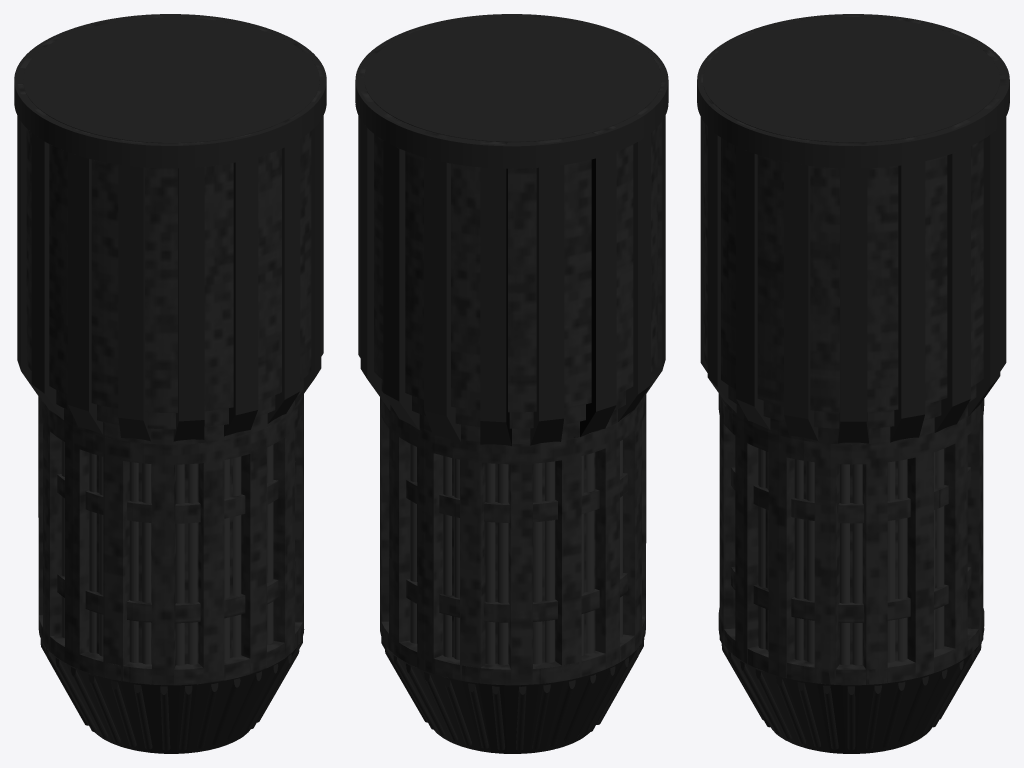
The model's file is thruster.glb.
The picture shows the model from 3 angles, left to right: view 1: azimuth 30°, elevation 25°; view 2: azimuth 150°, elevation 25°; view 3: azimuth 270°, elevation 25°; orthographic projection.
Parts seen in each view (by area): view 1: thruster; view 2: thruster; view 3: thruster.
Part boxes in pixels (left/top/right/bottom): thruster: left=14, top=14, right=326, bottom=753; thruster: left=355, top=14, right=668, bottom=753; thruster: left=697, top=14, right=1009, bottom=753.
Size of the model in its own units: 0.1951 by 0.44 by 0.1951.
4 materials, 1 textured.
